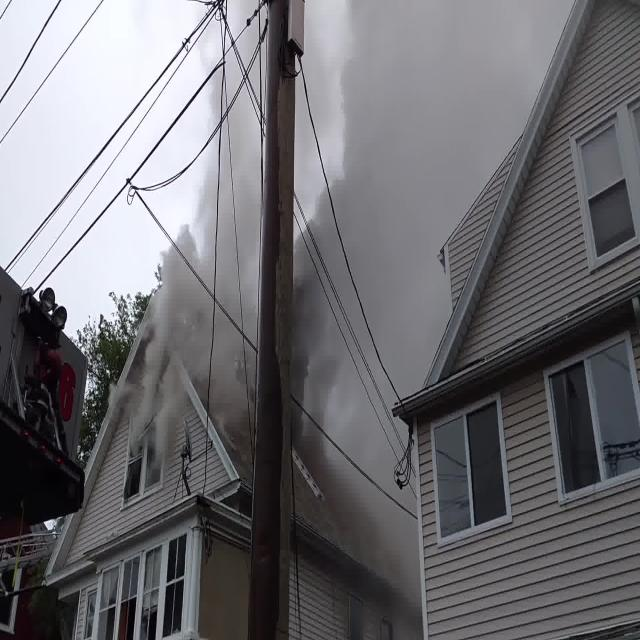Smoke: (125, 0, 640, 479)
